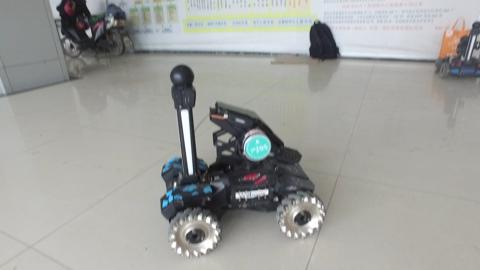bag: (305, 17, 341, 61), (441, 14, 470, 60)
chariot: (158, 63, 327, 259), (433, 20, 480, 79)
